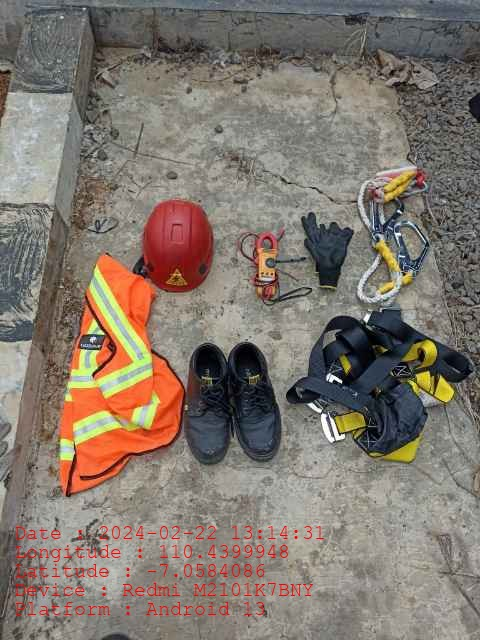HELM: (145, 200, 212, 290)
SARUNG TANGAN: (302, 214, 352, 292)
SEPATU: (185, 341, 278, 466)
TAMBANG_SLING: (355, 167, 429, 305)
